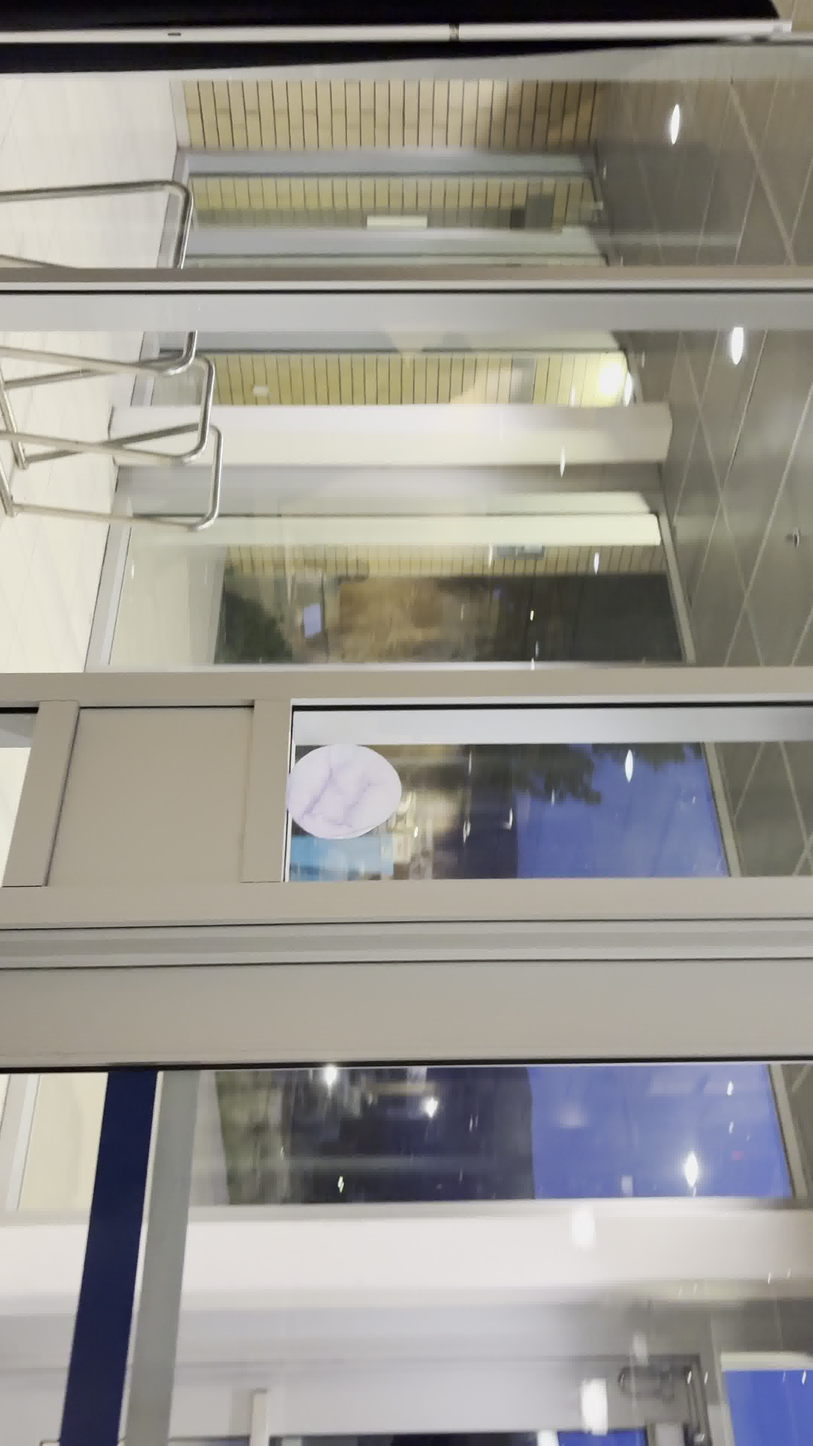Target: (284, 742, 402, 841)
